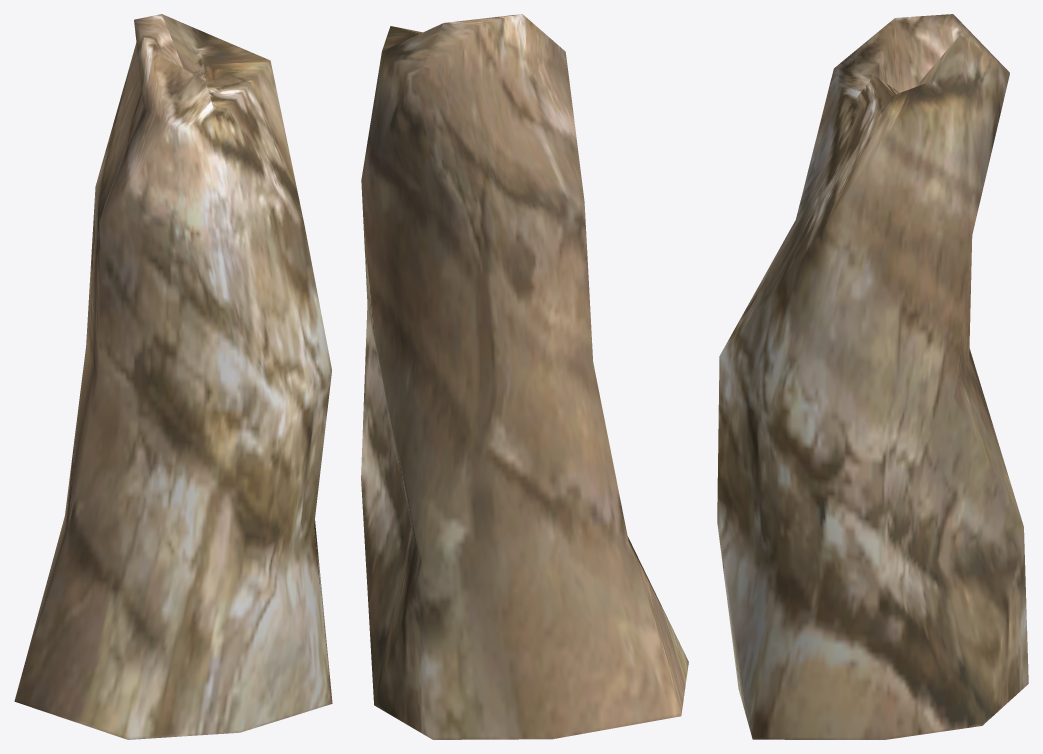
File: thm_tato_cave_stalagmite_med_l0.fbx
3 views of the same model, side by side, from view 1: azimuth 30°, elevation 25°; view 2: azimuth 150°, elevation 25°; view 3: azimuth 270°, elevation 25° (orthographic). The views are drawn at different scales.
Visible parts, largest first — view 1: mesh_node; view 2: mesh_node; view 3: mesh_node.
Boxes of the visible parts, x1,y1,x2,y2 form: mesh_node: (14, 14, 332, 739); mesh_node: (361, 14, 688, 739); mesh_node: (717, 14, 1028, 739).
Size of the model in its own units: 1.97 by 4.08 by 1.71.
1 material, 1 textured.
